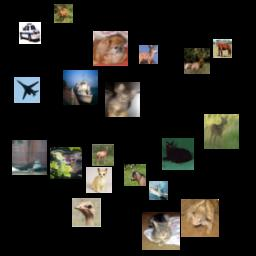airplane: (14, 77, 40, 103)
automobile: (19, 22, 41, 44)
bird: (72, 198, 101, 227)
cat: (142, 212, 180, 250), (105, 82, 140, 117), (162, 138, 194, 170)
deer: (204, 114, 239, 149), (50, 147, 82, 179), (184, 48, 210, 74), (124, 164, 146, 186), (92, 144, 114, 166), (54, 4, 73, 23), (139, 45, 158, 64)
dog: (93, 31, 128, 66), (86, 167, 112, 193)
frog: (181, 199, 219, 237)
ship: (12, 140, 47, 175), (63, 70, 98, 105), (149, 181, 168, 200)
